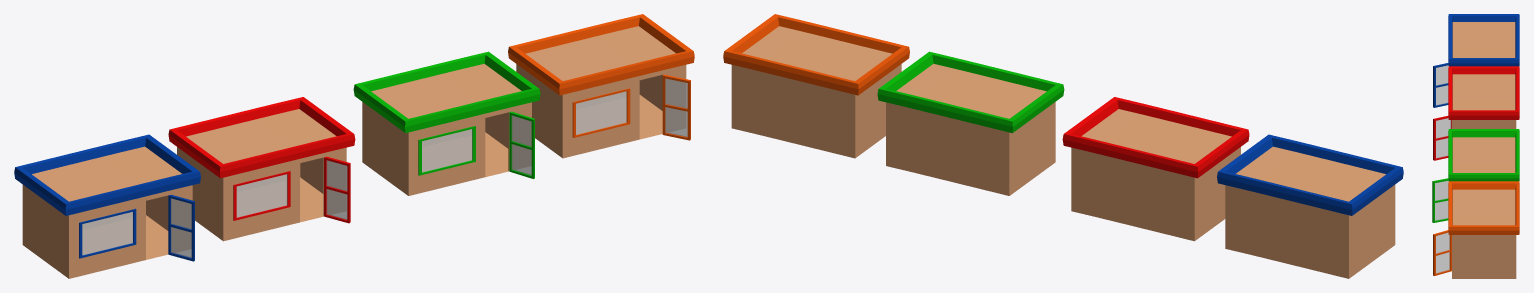
The model's file is Four Buildings.glb.
3 views of the same model, side by side, from view 1: azimuth 30°, elevation 25°; view 2: azimuth 150°, elevation 25°; view 3: azimuth 270°, elevation 25° (orthographic). The views are drawn at different scales.
Visible parts, largest first — view 1: Store 1, Store 3, Store 4, Store 2, Door.003, Door.001, Door, Door.002; view 2: Store 1, Store 3, Store 4, Store 2; view 3: Store 4, Store 2, Store 1, Store 3, Door.003, Door.002, Door.001, Door.
Part boxes in pixels (<box>): Store 1: <box>14,134,200,278</box>; Store 3: <box>353,51,540,195</box>; Store 4: <box>508,14,694,158</box>; Store 2: <box>168,97,355,241</box>; Door.003: <box>662,74,690,140</box>; Door.001: <box>324,156,350,223</box>; Door: <box>168,194,194,261</box>; Door.002: <box>509,111,534,178</box>; Store 1: <box>1217,134,1403,278</box>; Store 3: <box>877,51,1064,195</box>; Store 4: <box>723,14,909,158</box>; Store 2: <box>1062,97,1249,241</box>; Store 4: <box>1448,181,1519,278</box>; Store 2: <box>1448,66,1519,128</box>; Store 1: <box>1448,14,1519,66</box>; Store 3: <box>1448,129,1519,181</box>; Door.003: <box>1433,230,1451,275</box>; Door.002: <box>1432,178,1448,222</box>; Door.001: <box>1433,116,1451,160</box>; Door: <box>1433,63,1448,107</box>.
Bounding box in the file's own units: 20.39 × 2.41 × 3.53.
